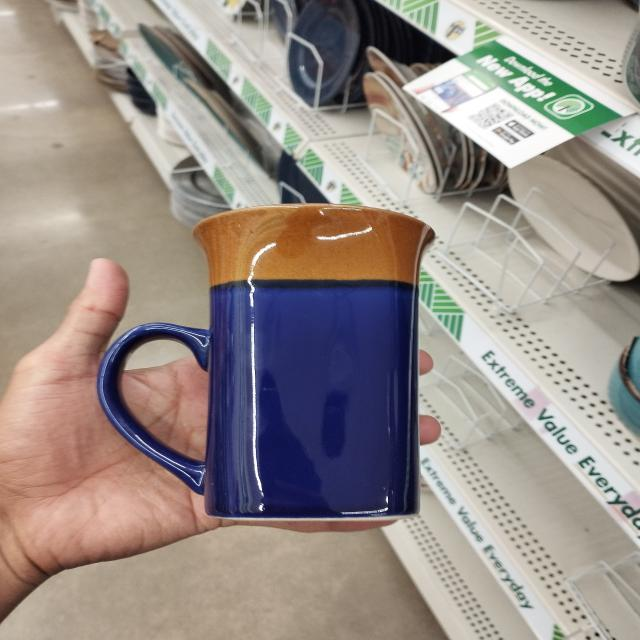Cup: (78, 185, 484, 538)
